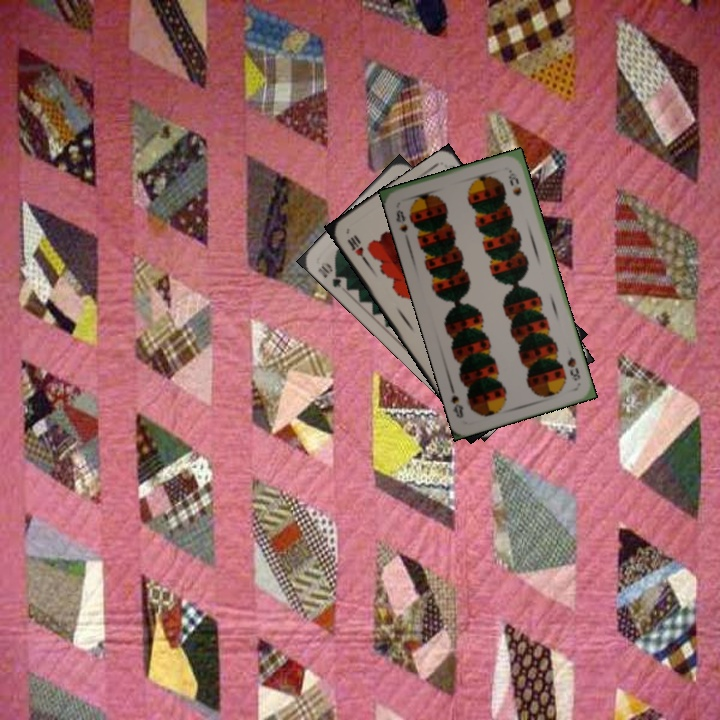G10: (313, 258, 346, 290)
H10: (343, 231, 371, 266)
S8: (563, 353, 583, 383), (392, 206, 410, 235)
